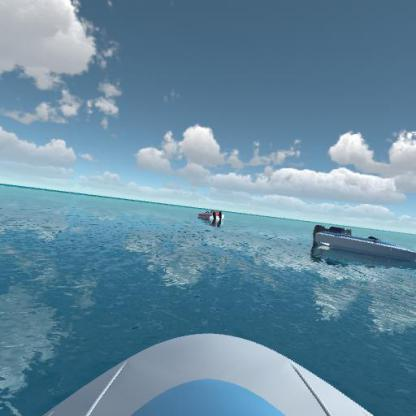usv1: (303, 210, 415, 270)
usv3: (193, 202, 228, 227)
